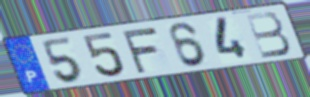4: (215, 14, 252, 64)
5: (38, 35, 86, 86), (80, 30, 127, 78)
6: (166, 20, 207, 68)
B: (243, 10, 293, 60)
F: (119, 26, 160, 76)
